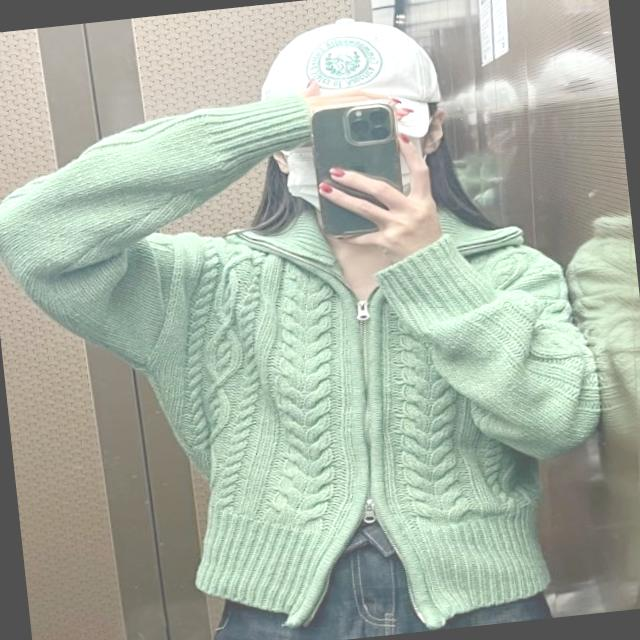cardigan: (0, 63, 625, 640)
denimpants: (179, 499, 569, 640)
